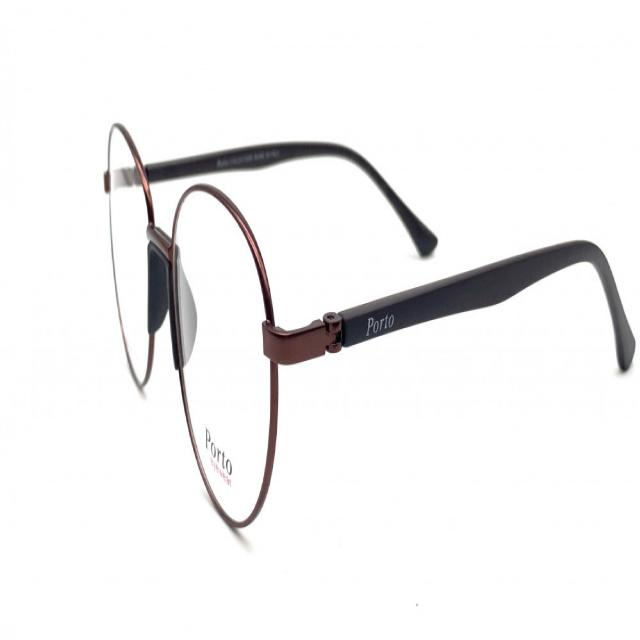glasses: (90, 125, 382, 545)
